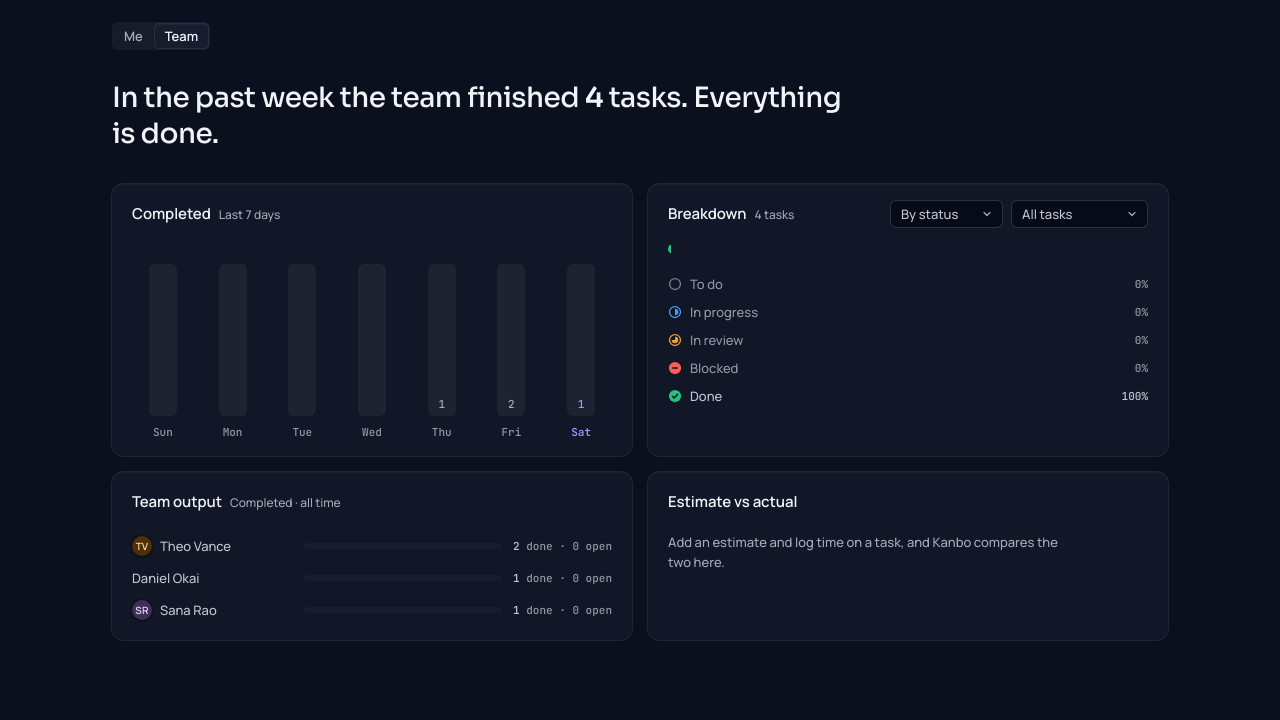
Test case: AnalyticsView › Me scope filters to your tasks (assigned or shared with you)
Check: the heading "Team output Completed · all time" is shown, box [132,492,341,512]
Click the button "Me": (133, 36) [114,24,153,48]
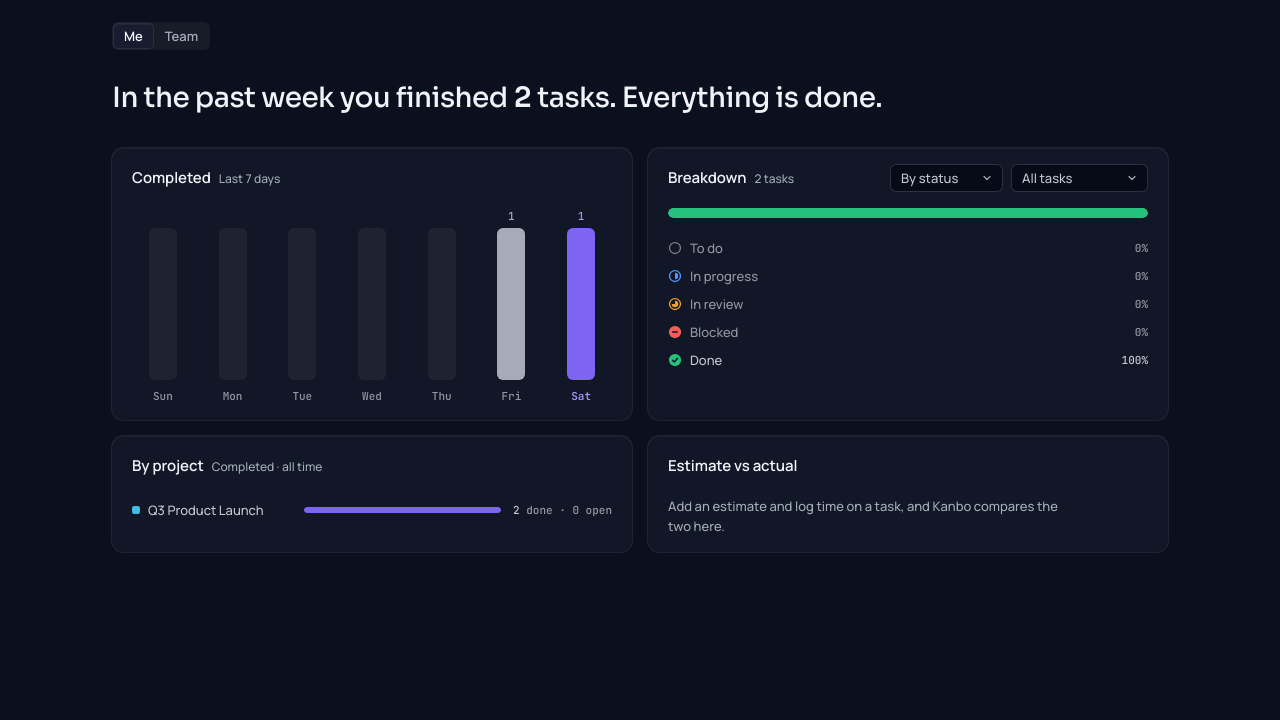
Check: the element with class "kin-kpi" shows "you finished 2 tasks", box [112,80,932,116]
Check: the heading "Team output" is gone
Check: the heading "By project Completed · all time" is shown, box [132,456,322,476]
